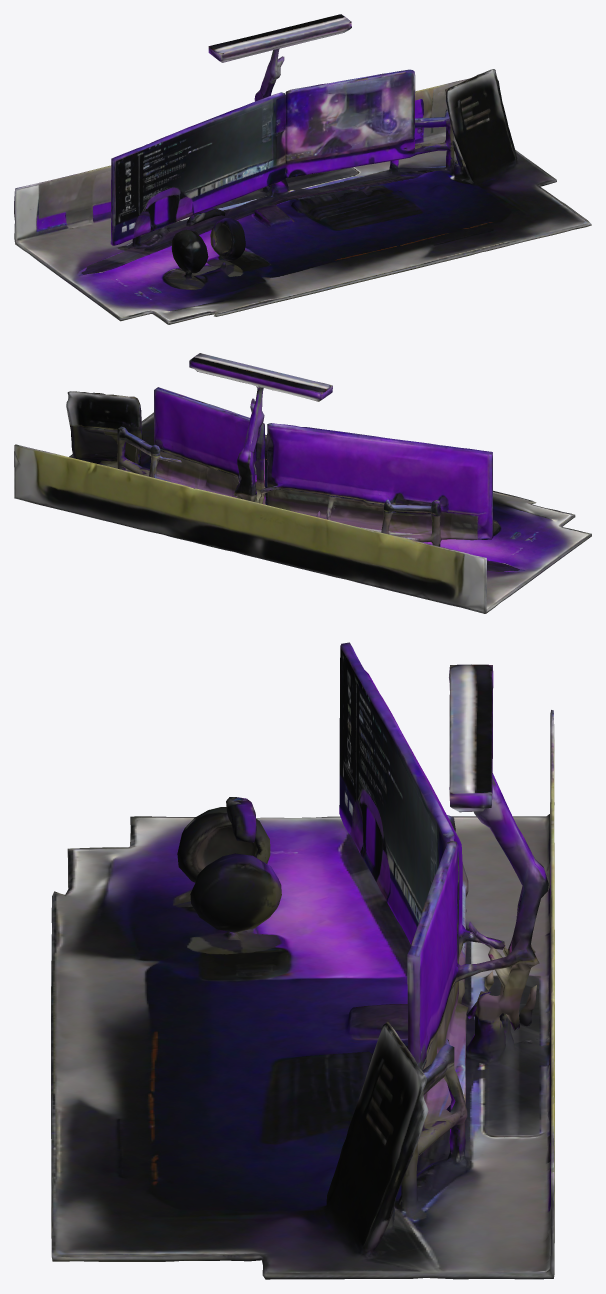
The model's file is desk.glb.
The picture shows the model from 3 angles, top to bottom: view 1: azimuth 30°, elevation 25°; view 2: azimuth 150°, elevation 25°; view 3: azimuth 270°, elevation 25°; orthographic projection. The views are drawn at different scales.
Size of the model in its own units: 2.01 by 0.6761 by 0.9303.
1 material, 1 textured.
